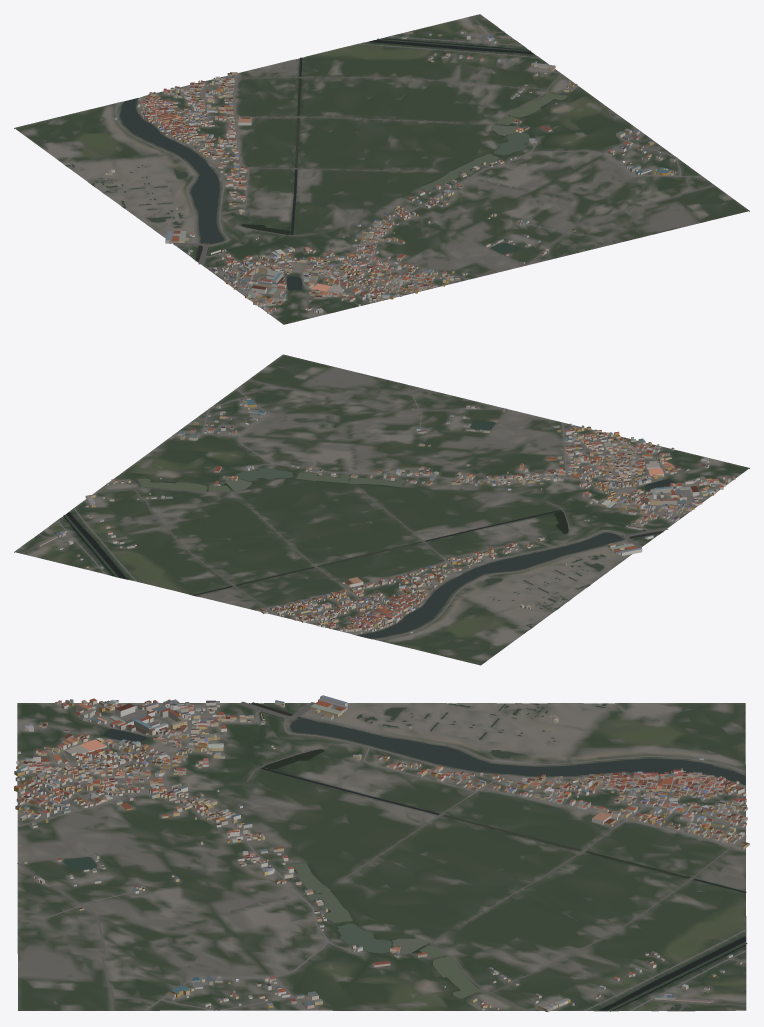
The picture shows the model from 3 angles, top to bottom: view 1: azimuth 30°, elevation 25°; view 2: azimuth 150°, elevation 25°; view 3: azimuth 270°, elevation 25°; orthographic projection. The views are drawn at different scales.
Visible parts, largest first — view 1: ground, buildings, water, roads; view 2: ground, buildings, water, roads; view 3: ground, buildings, water, roads.
Boxes of the visible parts, x1,y1,x2,y2 form: ground: (14, 14, 749, 324); buildings: (105, 25, 675, 313); water: (65, 29, 567, 290); roads: (115, 16, 714, 301); ground: (14, 354, 749, 665); buildings: (38, 397, 735, 633); water: (34, 420, 675, 638); roads: (21, 380, 707, 640); ground: (17, 703, 746, 1011); buildings: (14, 695, 749, 1012); water: (63, 702, 747, 1011); roads: (17, 701, 746, 1010).
Bounding box in the file's own units: 1422 × 17.67 × 1416.
